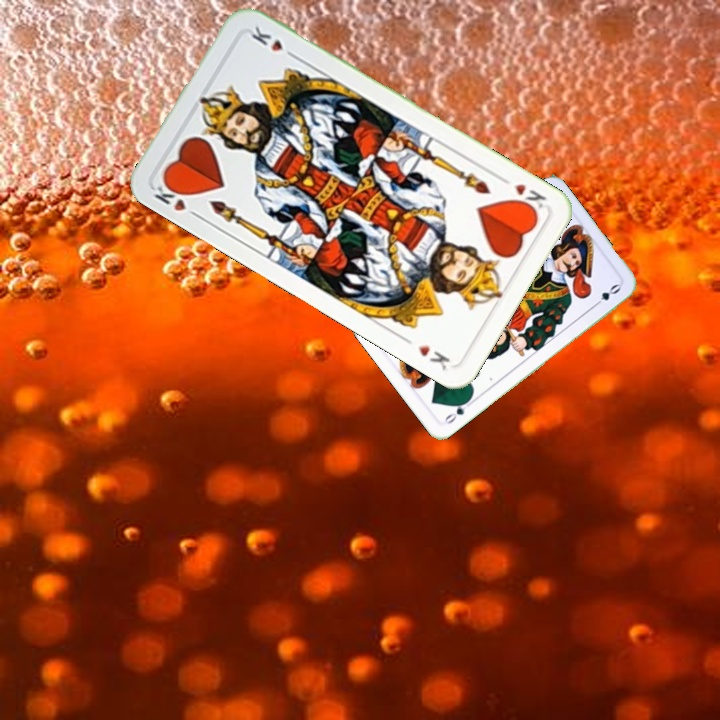GO: (440, 395, 473, 427)
HK: (150, 176, 203, 221), (508, 179, 549, 217)
